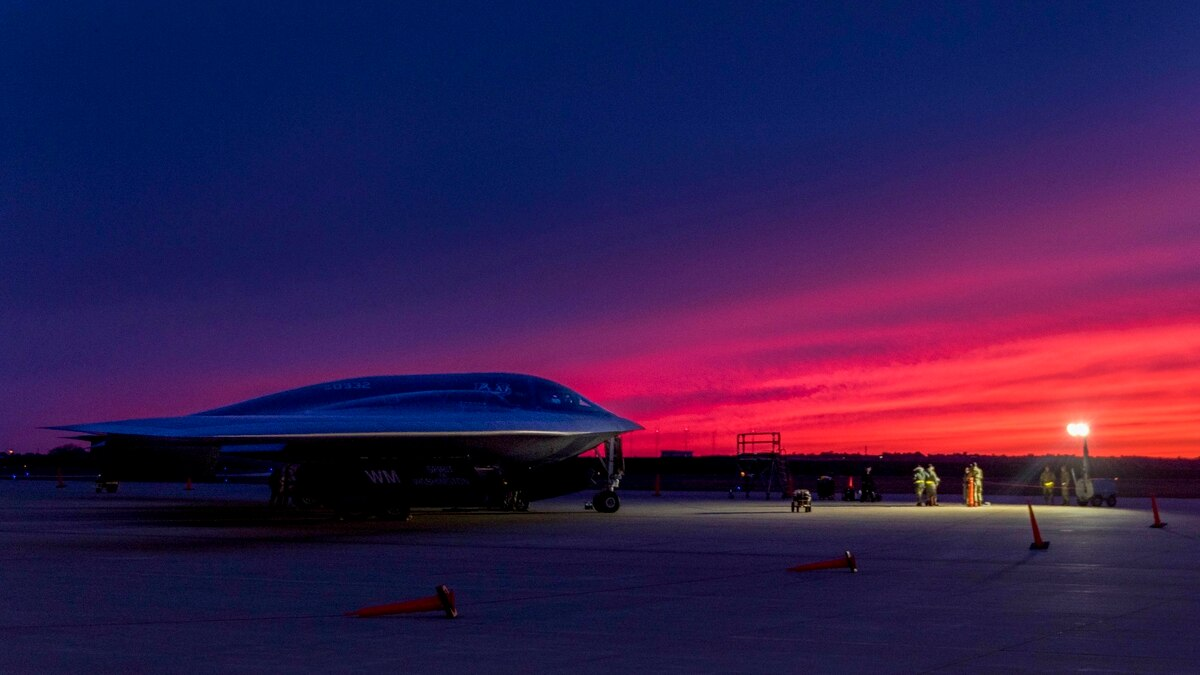B2: (32, 371, 648, 520)
